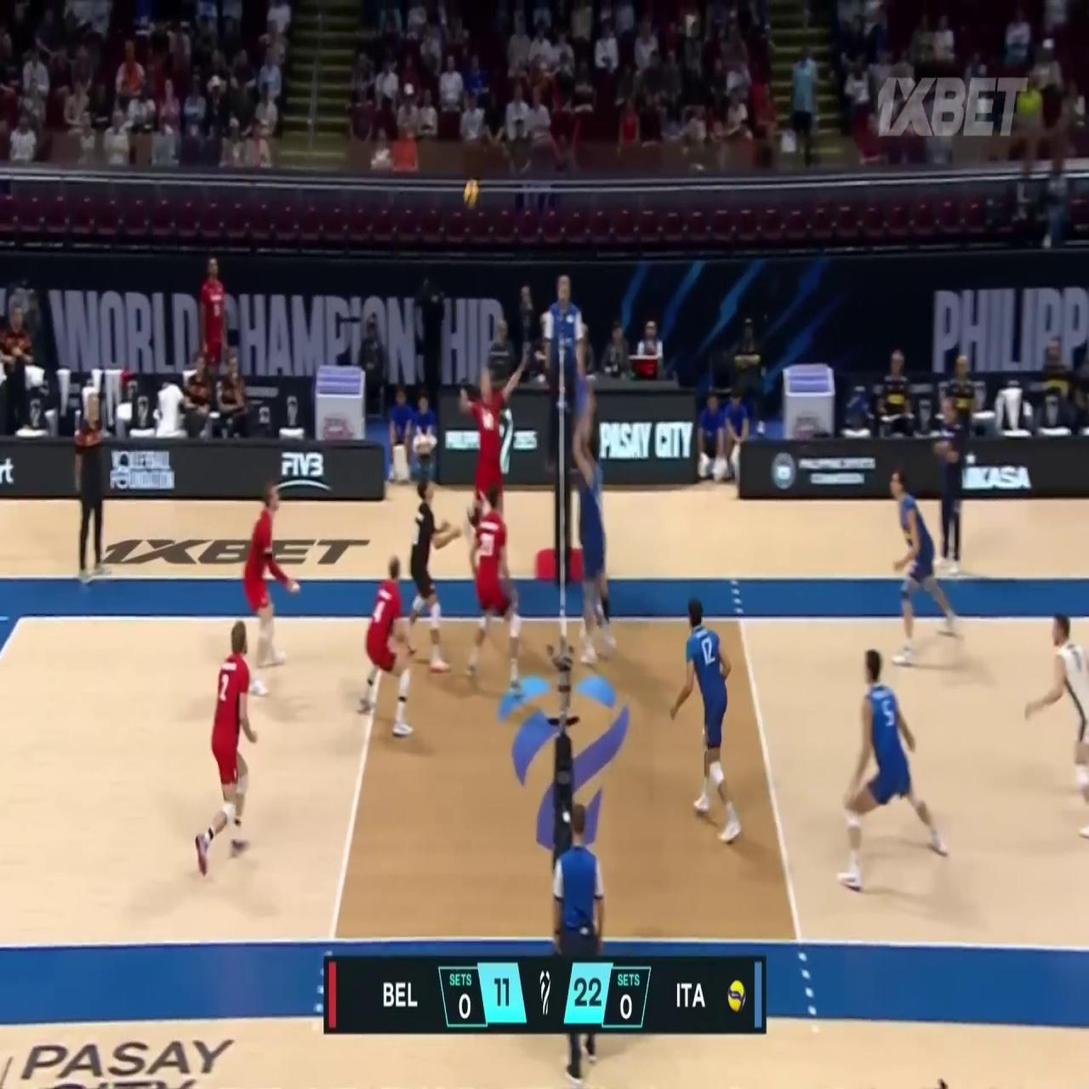ball: (463, 180, 479, 211)
